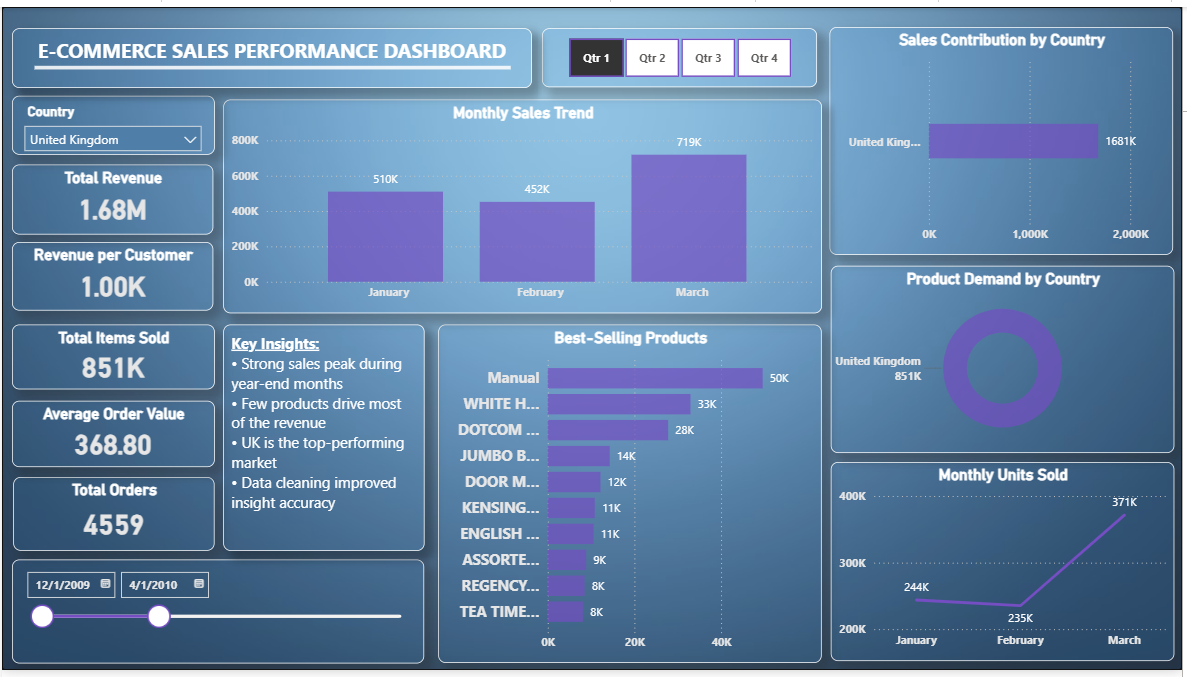

This screenshot's page, from the dashboard's own definition file:
{"tool":"powerbi","page":{"name":"Page 1","canvas":[1280,720],"ordinal":0},"visuals":[{"type":"barChart","title":"Sales Contribution by Country","fields":{"Category":["Year 2009-2010.Country"],"Y":["Sum(Year 2009-2010.Sales)"]},"box":[897.8,21.7,373,246.8],"z":0},{"type":"card","title":"Total Revenue","fields":{"Values":["Sum(Year 2009-2010.Sales)"]},"box":[10.8,170.9,218.4,75.9],"z":1000},{"type":"card","title":"Total Orders","fields":{"Values":["Count(Year 2009-2010.Invoice)"]},"box":[12.2,509.9,218.4,80],"z":2000},{"type":"card","title":"Total Items Sold","fields":{"Values":["Sum(Year 2009-2010.Quantity)"]},"box":[10.8,344.5,219.7,70.5],"z":3000},{"type":"barChart","title":"Best-Selling Products","fields":{"Category":["Year 2009-2010.Description"],"Y":["Sum(Year 2009-2010.Sales)"]},"box":[473.3,344.5,416.4,367.5],"z":4000},{"type":"card","title":"Revenue per Customer","fields":{"Values":["Year 2009-2010.Revenue per Order"]},"box":[10.8,255,218.4,74.6],"z":5000},{"type":"card","title":"Average Order Value","fields":{"Values":["Year 2009-2010.AOV"]},"box":[10.8,427.2,219.7,71.9],"z":6000},{"type":"columnChart","title":"Monthly Sales Trend","fields":{"Y":["Sum(Year 2009-2010.Sales)"],"Category":["Year 2009-2010.InvoiceDate.Variation.Date Hierarchy.Month"]},"box":[240.1,100.4,649.6,231.9],"z":7000},{"type":"donutChart","title":"Product Demand by Country","fields":{"Category":["Year 2009-2010.Country"],"Y":["Sum(Year 2009-2010.Quantity)"]},"box":[899.2,280.7,373,203.4],"z":8000},{"type":"lineChart","title":"Monthly Units Sold","fields":{"Category":["Year 2009-2010.InvoiceDate.Variation.Date Hierarchy.Month1"],"Y":["Sum(Year 2009-2010.Quantity)"]},"box":[899.2,493.7,373,215.6],"z":9000},{"type":"slicer","fields":{"Values":["Year 2009-2010.InvoiceDate"]},"box":[10.8,599.5,447.6,112.6],"z":10000},{"type":"slicer","fields":{"Values":["Year 2009-2010.InvoiceDate.Variation.Date Hierarchy.Quarter"]},"box":[585.9,23.1,298.4,63.7],"z":11000},{"type":"slicer","fields":{"Values":["Year 2009-2010.Country"]},"box":[10.8,96.3,219.7,63.7],"z":12000},{"type":"textbox","box":[10.8,23.1,564.2,65.1],"z":13000},{"type":"shape","box":[35.3,21.7,516.7,88.2],"z":14000},{"type":"textbox","box":[240.1,344.5,218.4,245.5],"z":15000}]}

Visuals, with their boxes in screenshot pixels (x1, y1, x2, y2), scaled from the page's 1280x720 canvas onto the 1187x677 screenshot:
"Sales Contribution by Country" barChart: <box>833,20,1178,252</box>
"Total Revenue" card: <box>10,161,213,232</box>
"Total Orders" card: <box>11,479,214,555</box>
"Total Items Sold" card: <box>10,324,214,390</box>
"Best-Selling Products" barChart: <box>439,324,825,669</box>
"Revenue per Customer" card: <box>10,240,213,310</box>
"Average Order Value" card: <box>10,402,214,469</box>
"Monthly Sales Trend" columnChart: <box>223,94,825,312</box>
"Product Demand by Country" donutChart: <box>834,264,1180,455</box>
"Monthly Units Sold" lineChart: <box>834,464,1180,667</box>
slicer - Year 2009-2010.InvoiceDate: <box>10,564,425,670</box>
slicer - Year 2009-2010.InvoiceDate.Variation.Date Hierarchy.Quarter: <box>543,22,820,82</box>
slicer - Year 2009-2010.Country: <box>10,91,214,150</box>
textbox: <box>10,22,533,83</box>
shape: <box>33,20,512,103</box>
textbox: <box>223,324,425,555</box>
